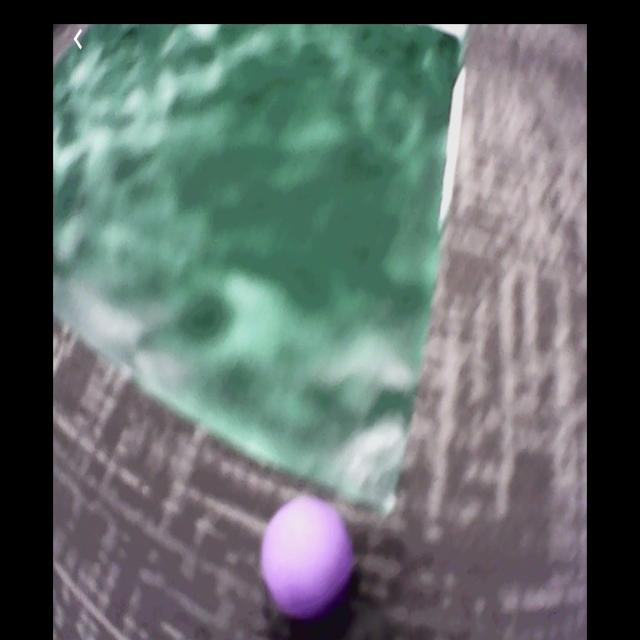ball: (264, 492, 348, 624)
